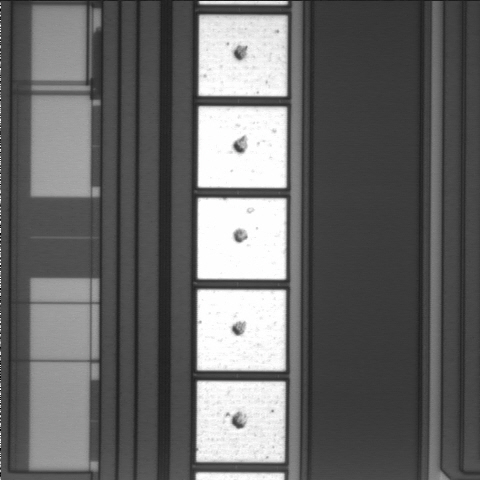pad: (198, 106, 287, 188), (197, 198, 286, 280), (197, 289, 286, 371), (196, 381, 285, 462), (199, 15, 287, 96)
